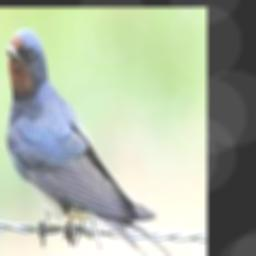Swallow: (6, 29, 192, 256)
